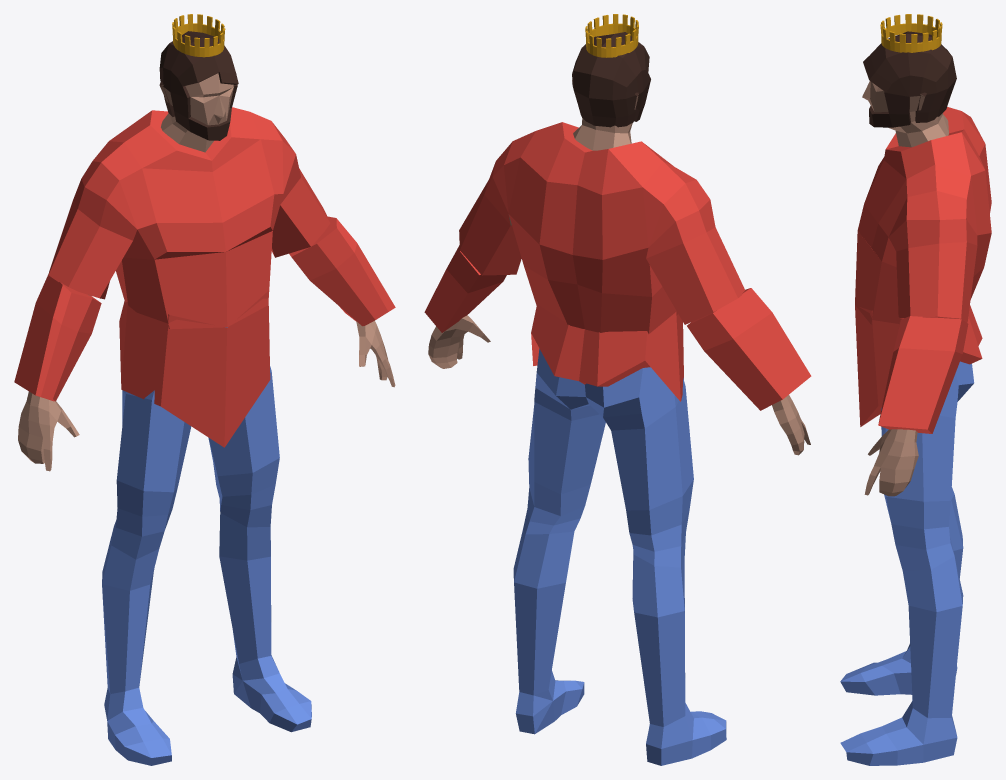
Rendered from HARING FERNANDO.fbx.
3 views of the same model, side by side, from view 1: azimuth 30°, elevation 25°; view 2: azimuth 150°, elevation 25°; view 3: azimuth 270°, elevation 25° (orthographic).
Visible parts, largest first — view 1: male.001, male.002, male, male.003, Cylinder; view 2: male.001, male.002, male.003, male, Cylinder; view 3: male.001, male.002, male.003, male, Cylinder.
Part boxes in pixels (bbox=[...]): male.001: bbox=[14, 107, 395, 447]; male.002: bbox=[102, 327, 311, 765]; male: bbox=[18, 73, 395, 471]; male.003: bbox=[159, 31, 238, 140]; Cylinder: bbox=[172, 14, 225, 57]; male.001: bbox=[424, 122, 811, 410]; male.002: bbox=[513, 348, 726, 765]; male.003: bbox=[572, 32, 650, 127]; male: bbox=[428, 80, 810, 455]; Cylinder: bbox=[585, 14, 638, 57]; male.001: bbox=[855, 107, 991, 433]; male.002: bbox=[840, 361, 974, 765]; male.003: bbox=[863, 31, 956, 127]; male: bbox=[862, 81, 948, 496]; Cylinder: bbox=[880, 14, 942, 52].
Bounding box in the file's own units: 196 × 358 × 70.49.
